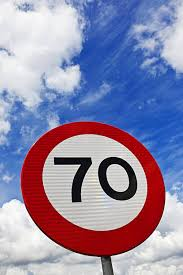Speed_limit_70km: (20, 121, 168, 255)
